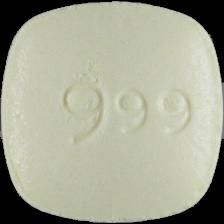0615-6569: (0, 0, 224, 224)
